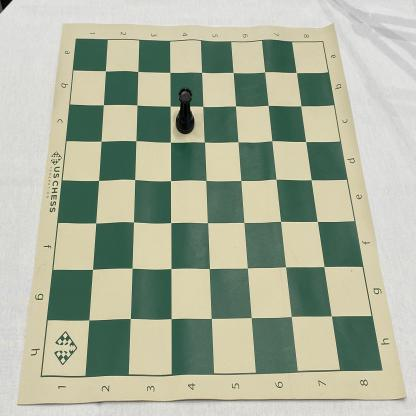black-rook: (175, 87, 195, 134)
